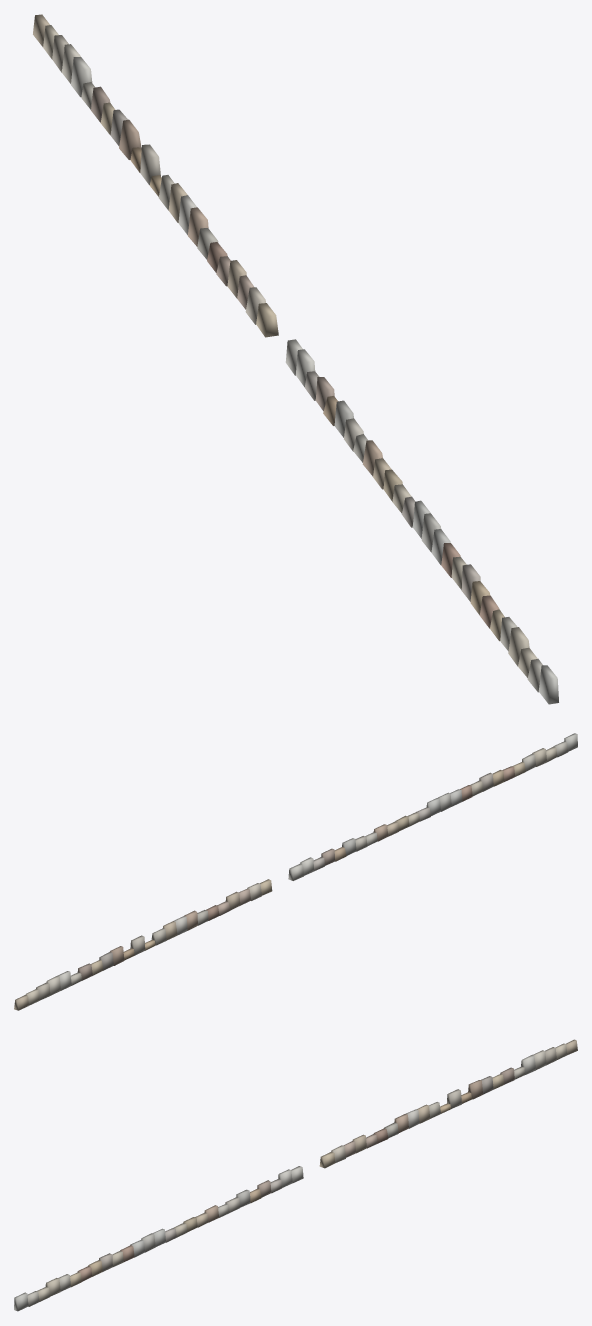
Rendered from farm_-4_9_far.glb.
3 renders of one model, top to bottom at view 1: azimuth 30°, elevation 25°; view 2: azimuth 150°, elevation 25°; view 3: azimuth 330°, elevation 25°, orthographic. The views are drawn at different scales.
Parts seen in each view (by area): view 1: geometry_0; view 2: geometry_0; view 3: geometry_0.
Part boxes in pixels (x1,y1,x2,y2): geometry_0: [33, 14, 558, 704]; geometry_0: [14, 733, 577, 1010]; geometry_0: [14, 1039, 577, 1311].
Size of the model in its own units: 17.96 by 1.65 by 81.64.
